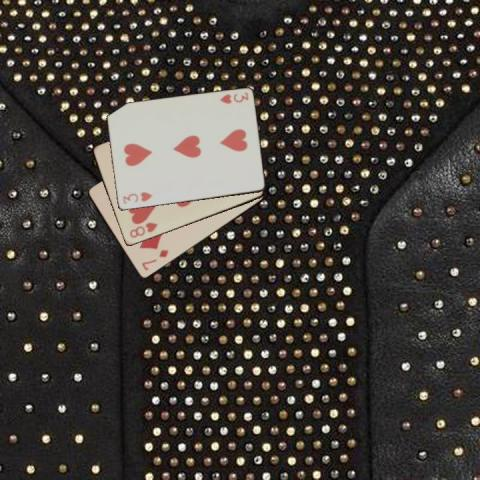3h: (120, 190, 153, 206), (217, 90, 249, 106)
7d: (139, 247, 170, 272)
8h: (127, 220, 159, 240)
